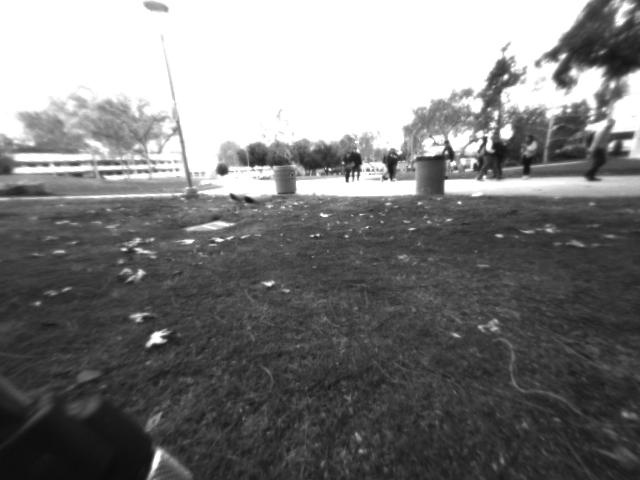trashcan: (409, 151, 450, 203), (269, 157, 303, 201)
